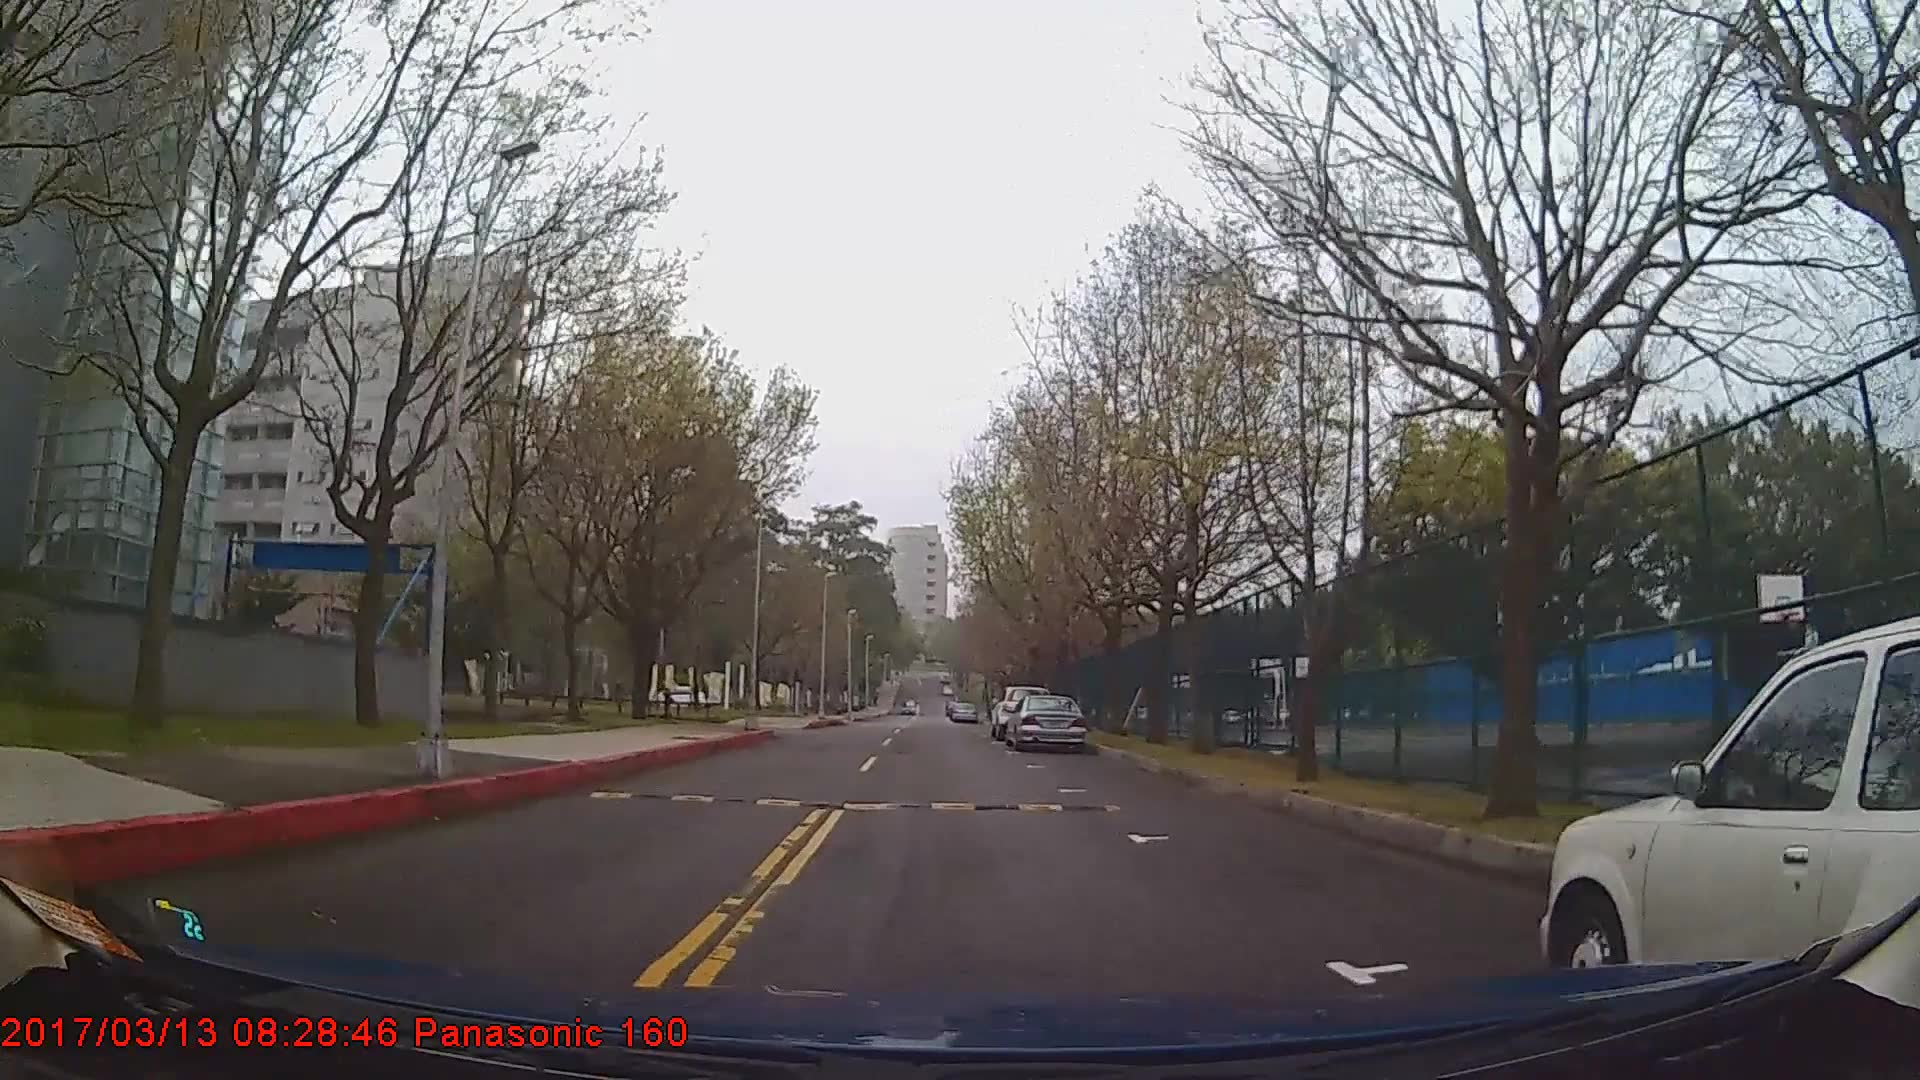vehicle: (1544, 615, 1917, 1000), (1004, 692, 1087, 750), (945, 700, 980, 727)
